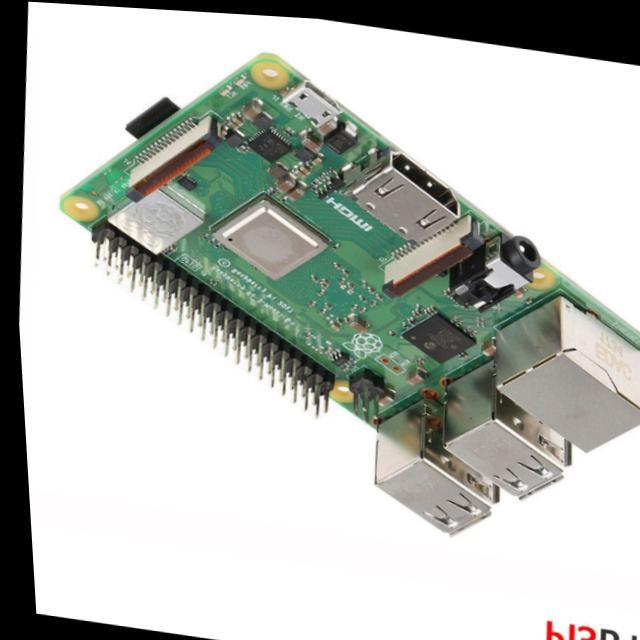Raspberry Pi 3 B-: (63, 55, 640, 533)
